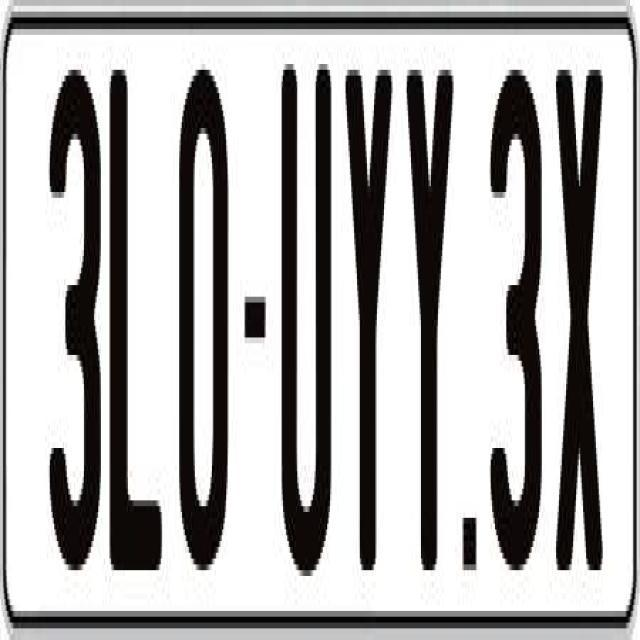0: (176, 70, 228, 582)
3: (48, 70, 106, 606), (490, 70, 544, 588)
L: (106, 58, 164, 582)
U: (278, 58, 336, 582)
X: (553, 64, 609, 588)
Y: (343, 52, 394, 564), (402, 64, 450, 594)
